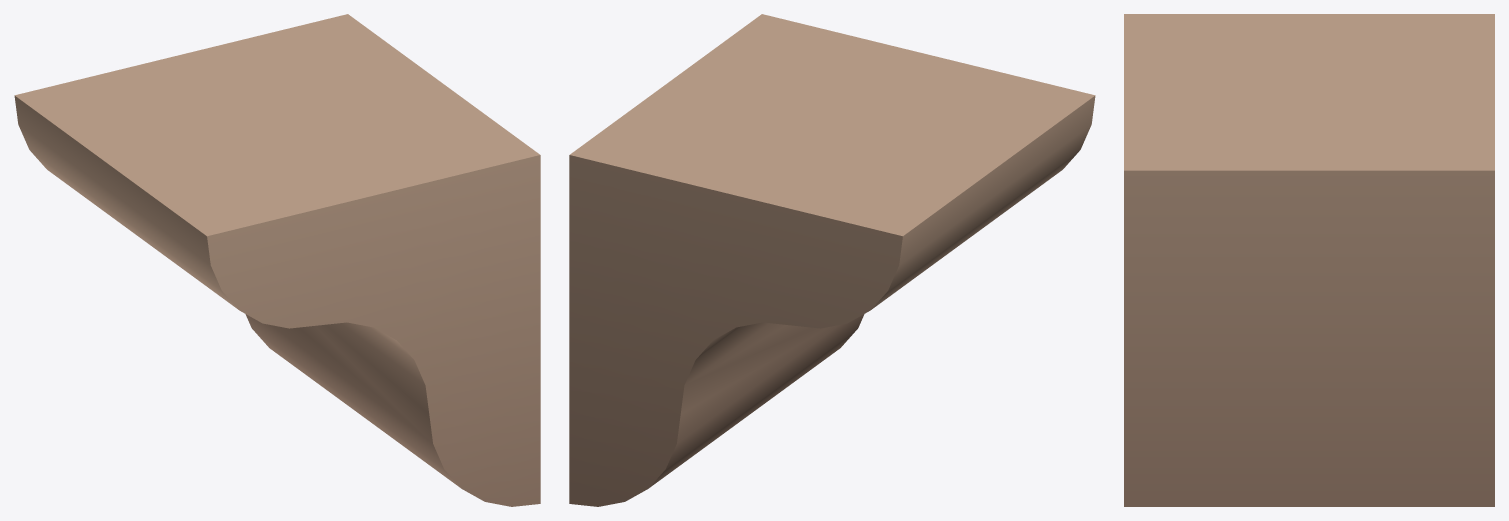
The model's file is corner-basic-e.glb.
3 views of the same model, side by side, from view 1: azimuth 30°, elevation 25°; view 2: azimuth 150°, elevation 25°; view 3: azimuth 270°, elevation 25° (orthographic). The views are drawn at different scales.
Visible parts, largest first — view 1: corner-basic-e; view 2: corner-basic-e; view 3: corner-basic-e.
Part boxes in pixels (bbox=[...]): corner-basic-e: bbox=[14, 14, 540, 506]; corner-basic-e: bbox=[569, 14, 1095, 506]; corner-basic-e: bbox=[1124, 14, 1494, 506].
Bounding box in the file's own units: 0.2 × 0.2 × 0.2.
